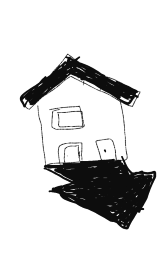door: (90, 131, 123, 165)
open_window: (48, 99, 91, 131)
shaded_roof: (11, 52, 146, 109)
shadow: (32, 160, 155, 234)
wall: (32, 93, 127, 170)
